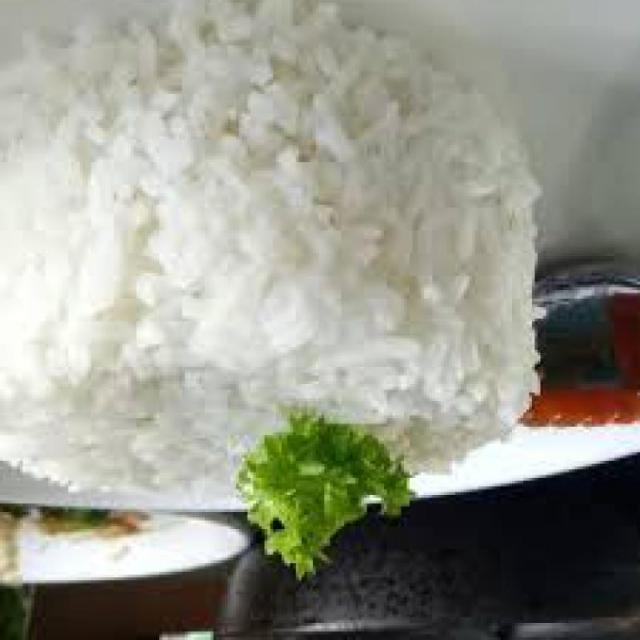nasi_putih: (2, 2, 540, 506)
